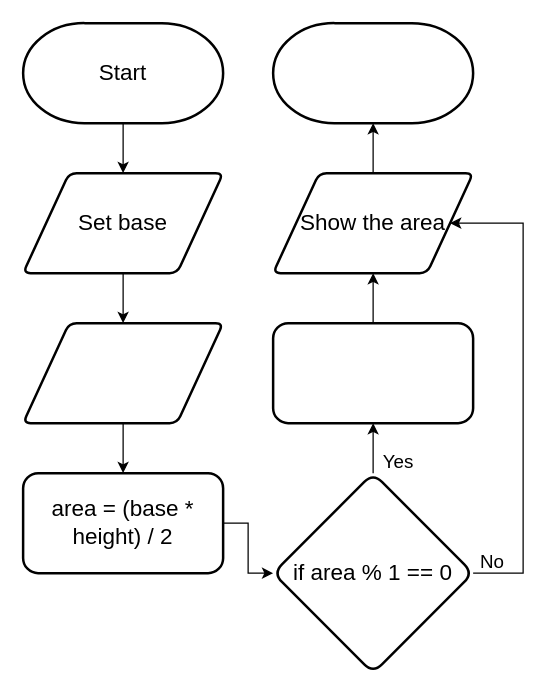
This 555x695 diagram has some shape labels left out. The shapes that lost their labels are listed below. From the top down, each one's centre as x and y in pixels, then its label:
At [372,72]: "Stop".
At [122,372]: "Set height".
At [372,372]: "area = int(area)".
